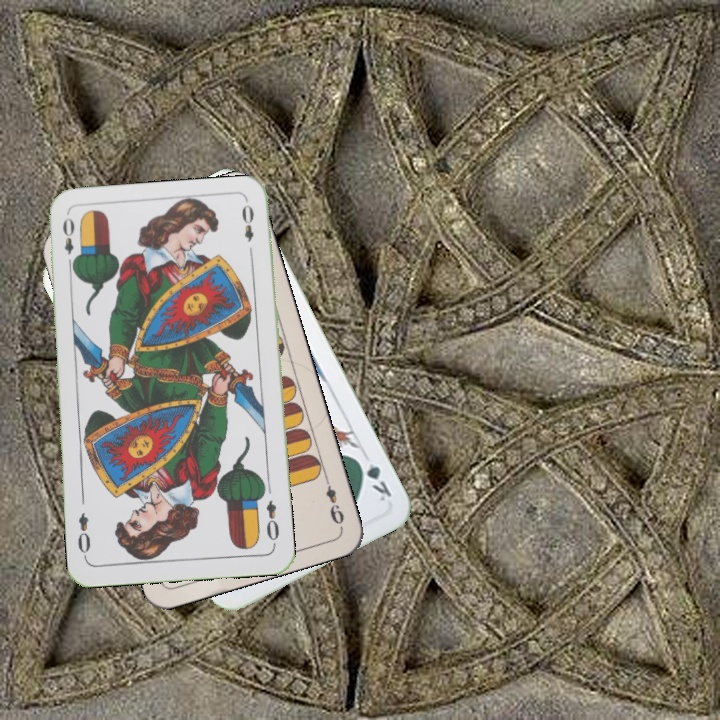E9: (320, 472, 347, 530)
EO: (58, 213, 80, 272), (262, 496, 282, 548)
GK: (352, 454, 395, 504)
